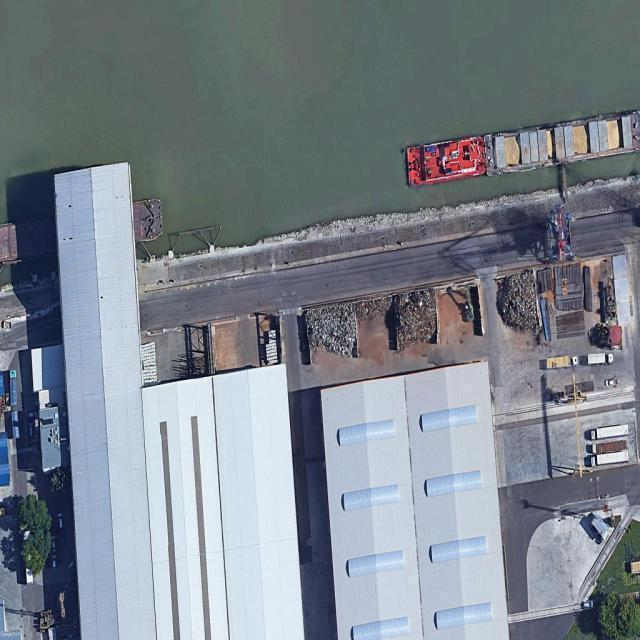dump_site: (306, 303, 359, 365), (495, 271, 541, 340), (394, 289, 439, 350)
